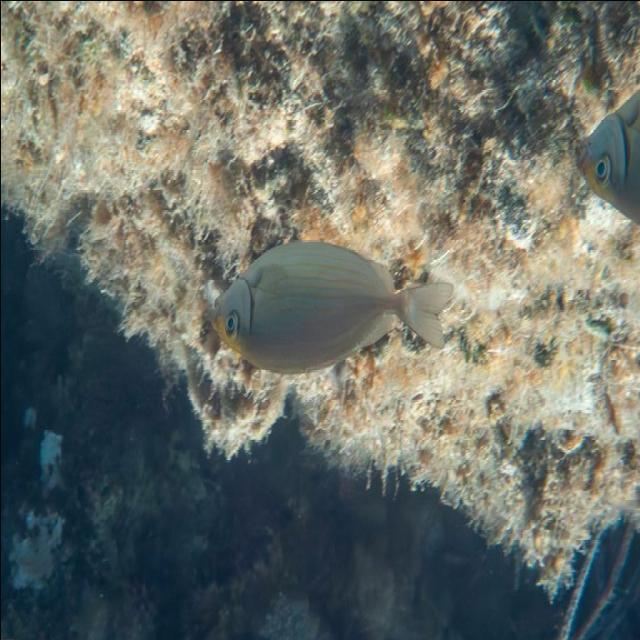Sokar Baligi: (205, 234, 458, 394)
